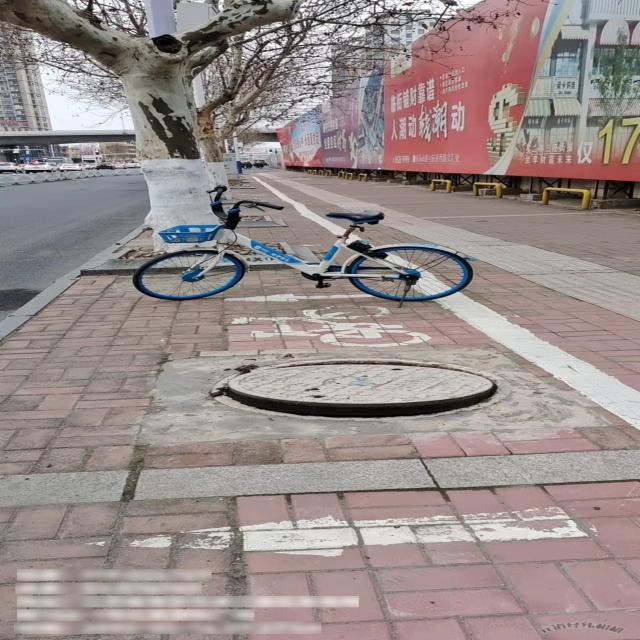Faulty: (211, 358, 510, 423)
